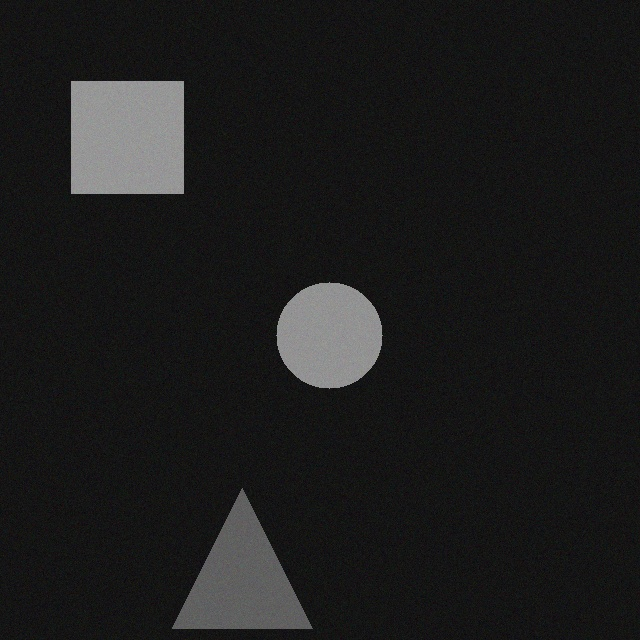circle: (264, 282, 370, 388)
square: (59, 81, 171, 193)
triangle: (160, 488, 300, 628)
